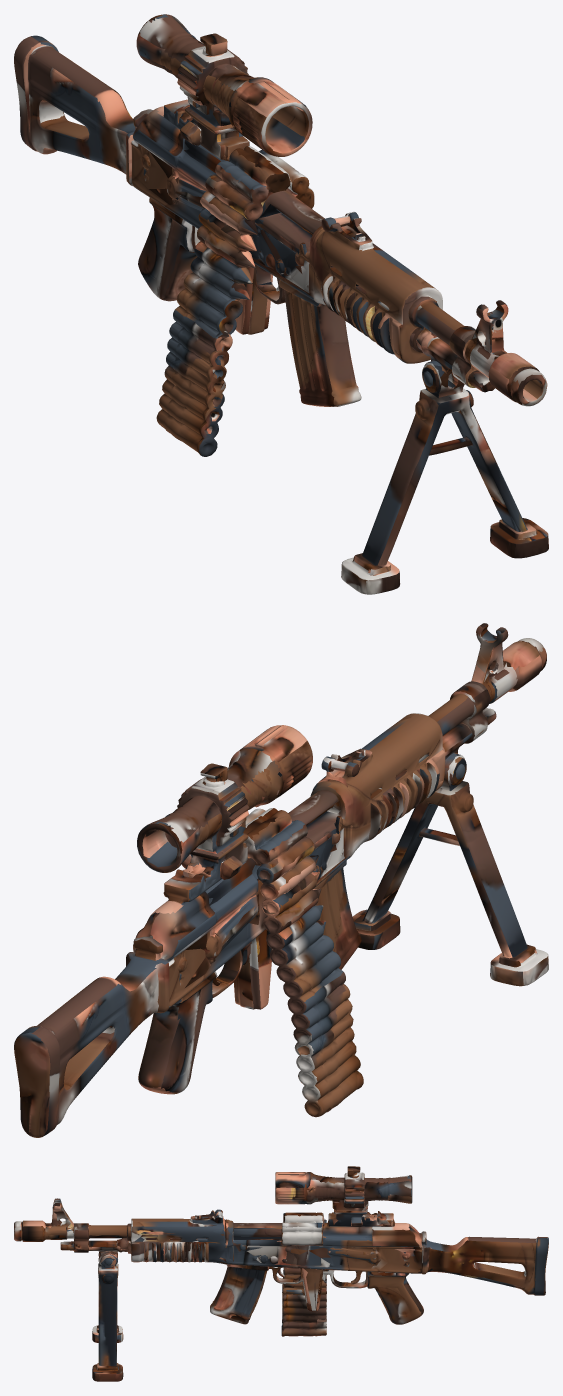
File: MachineGun.fbx
The picture shows the model from 3 angles, top to bottom: view 1: azimuth 30°, elevation 25°; view 2: azimuth 150°, elevation 25°; view 3: azimuth 270°, elevation 25°; orthographic projection. The views are drawn at different scales.
Visible parts, largest first — view 1: node_0; view 2: node_0; view 3: node_0.
Part boxes in pixels (x1,y1,x2,y2): node_0: [14, 14, 548, 594]; node_0: [14, 623, 548, 1137]; node_0: [14, 1166, 548, 1381].
Size of the model in its own units: 25.72 by 46.36 by 118.
